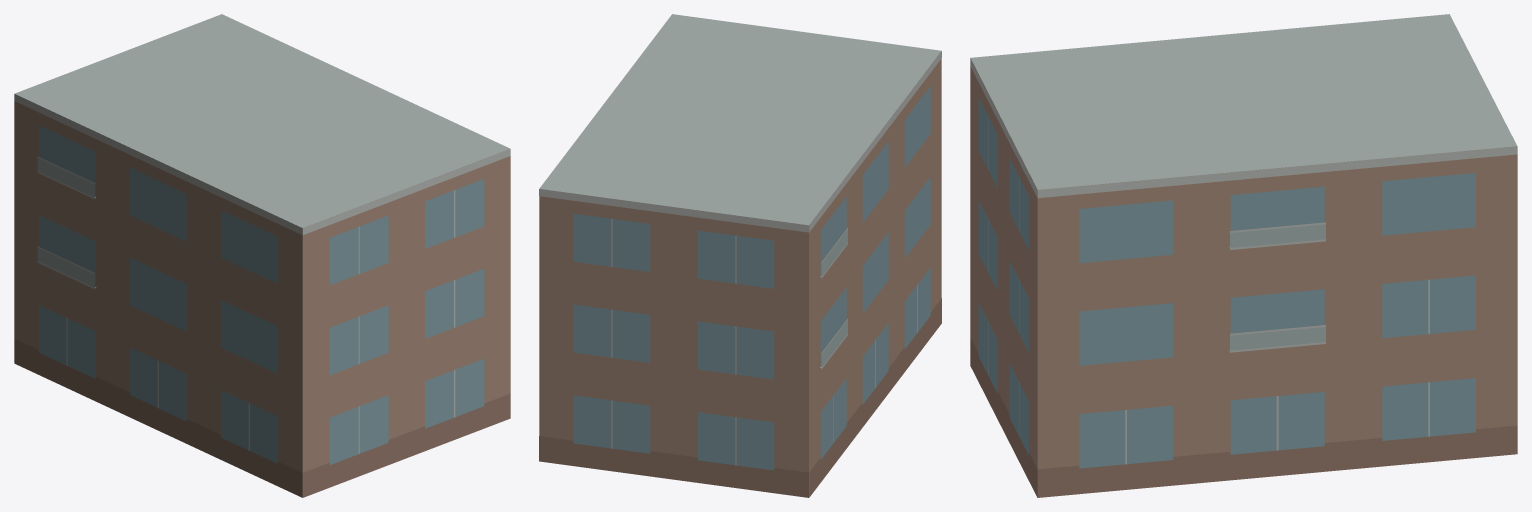
File: survey-upis-33038636.glb
3 renders of one model, left to right at view 1: azimuth 30°, elevation 25°; view 2: azimuth 150°, elevation 25°; view 3: azimuth 270°, elevation 25°, orthographic. The views are drawn at different scales.
Visible parts, largest first — view 1: survey-upis-33038636.tmp; view 2: survey-upis-33038636.tmp; view 3: survey-upis-33038636.tmp.
Boxes of the visible parts, x1,y1,x2,y2 form: survey-upis-33038636.tmp: (14,14,510,497); survey-upis-33038636.tmp: (539,14,941,497); survey-upis-33038636.tmp: (970,14,1517,497).
Size of the model in its own units: 11.23 by 9.15 by 14.75.
